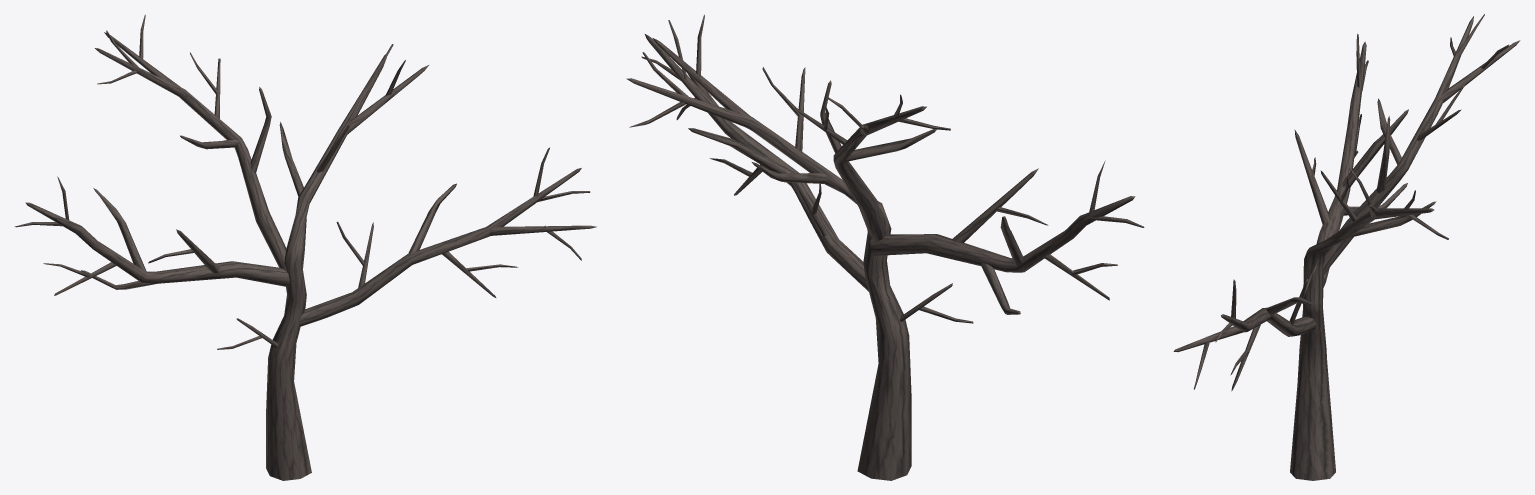
File: DeadTree_8.glb
The picture shows the model from 3 angles, left to right: view 1: azimuth 30°, elevation 25°; view 2: azimuth 150°, elevation 25°; view 3: azimuth 270°, elevation 25°; orthographic projection. The views are drawn at different scales.
Size of the model in its own units: 8.14 by 6.26 by 4.8.
Materials: 1 (1 with a texture image).
